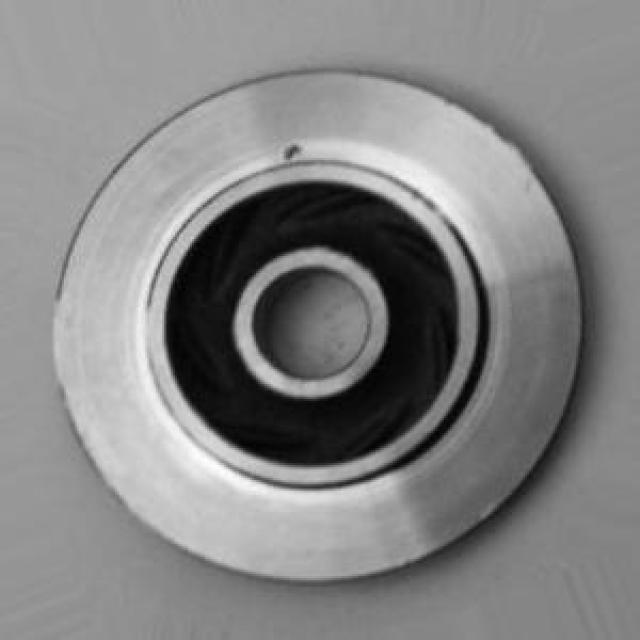Defect: (279, 141, 311, 161)
